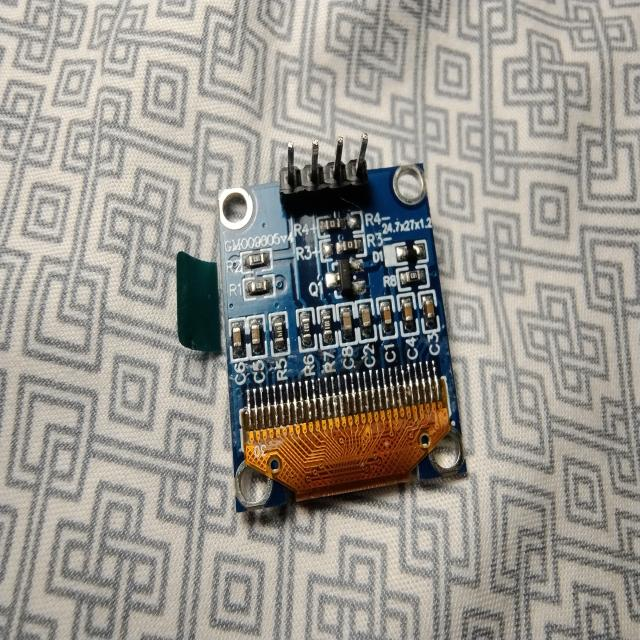oled: (172, 133, 485, 523)
